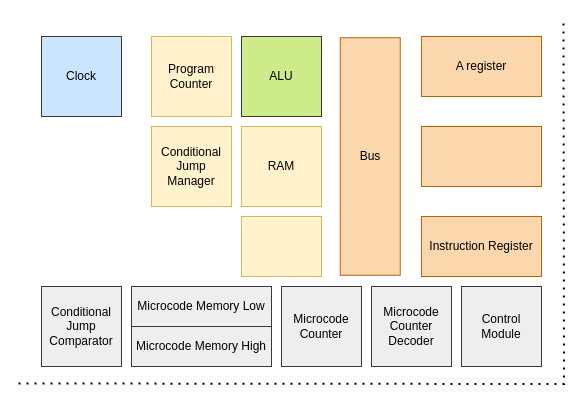
Some shapes in this 583 by 403 pixel diagram are drawn without their labels. Here are the shapes that lost their labels. From the top down, the centre of each, then its label:
point 481,156: B register
point 281,246: Memory Address Register
